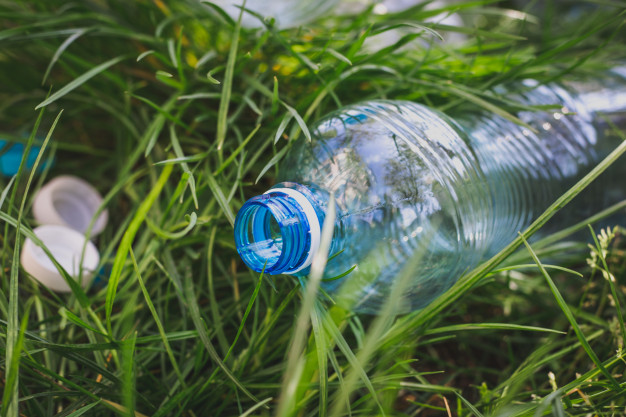plastic_bottle: (228, 58, 626, 319)
